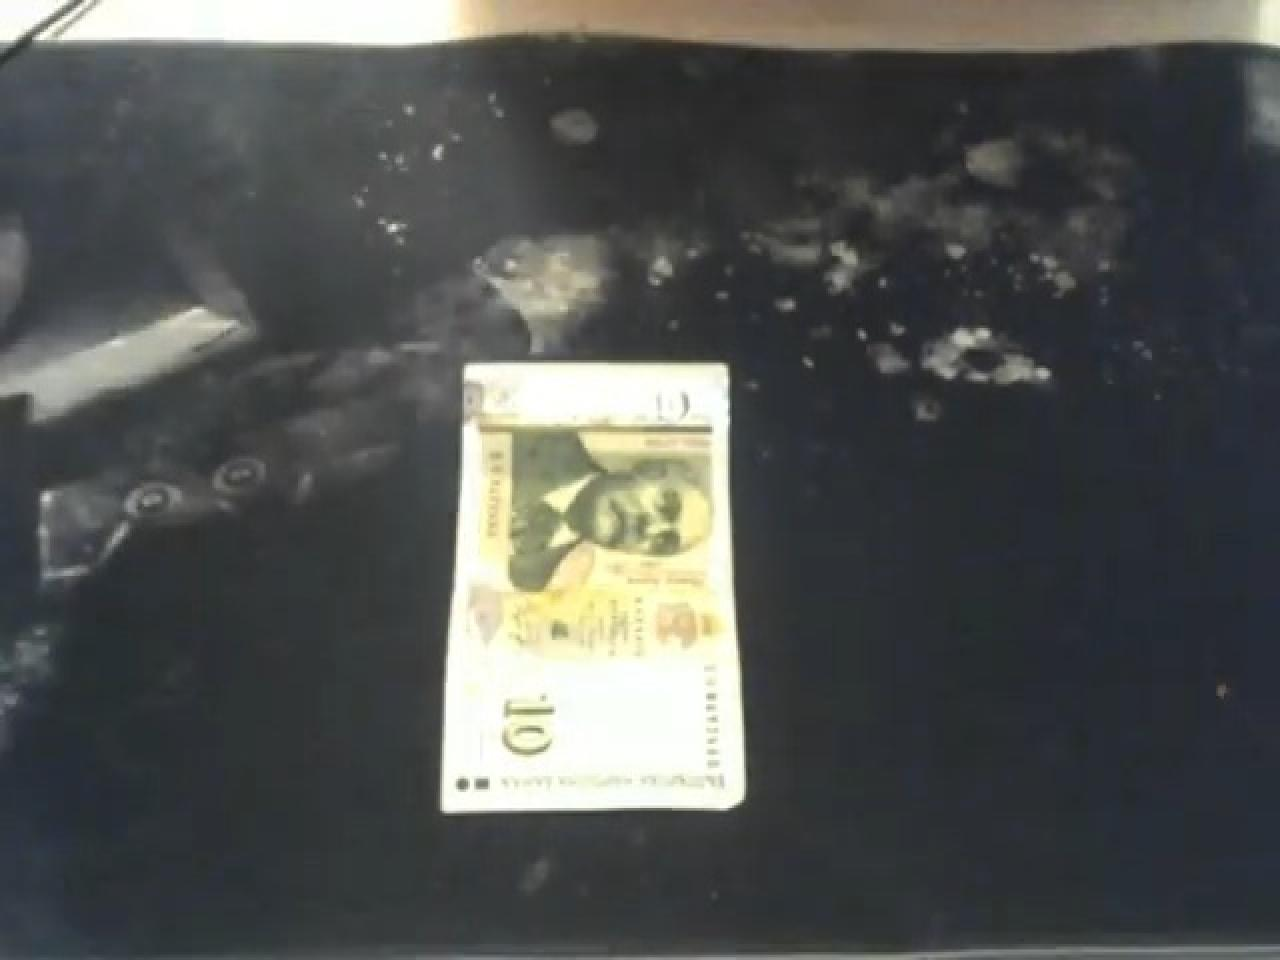10leva: (478, 673, 591, 770)
